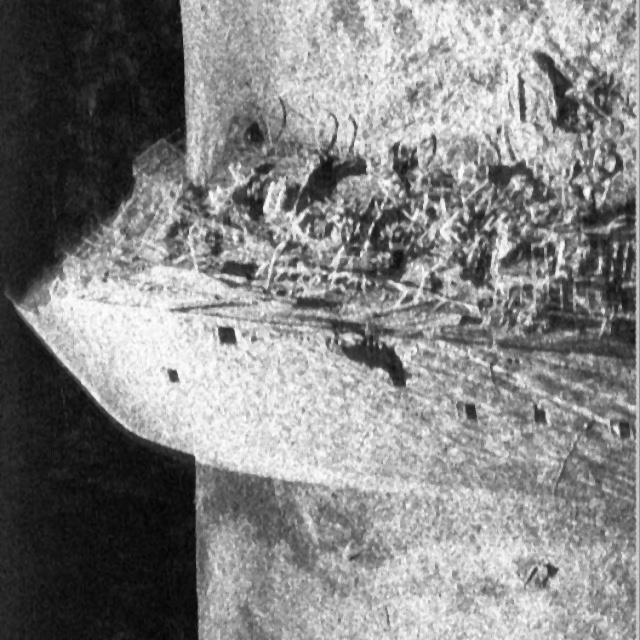Ship: (8, 45, 640, 524)
